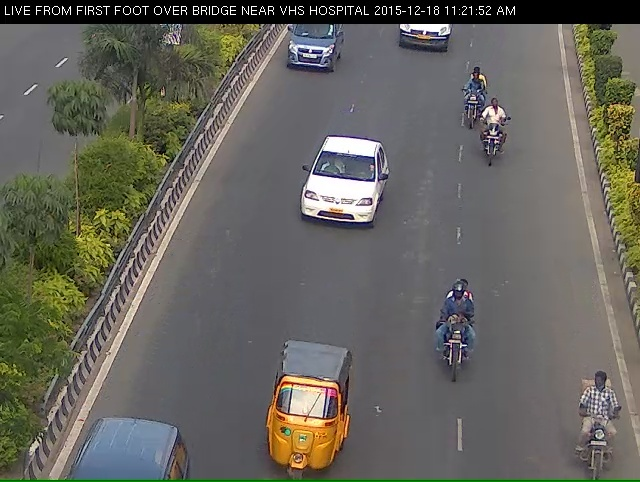Auto: (250, 365, 347, 480)
Car: (285, 147, 384, 251), (276, 21, 335, 85)
Person: (433, 302, 482, 406), (577, 393, 625, 480), (481, 106, 510, 173), (457, 75, 479, 142)
